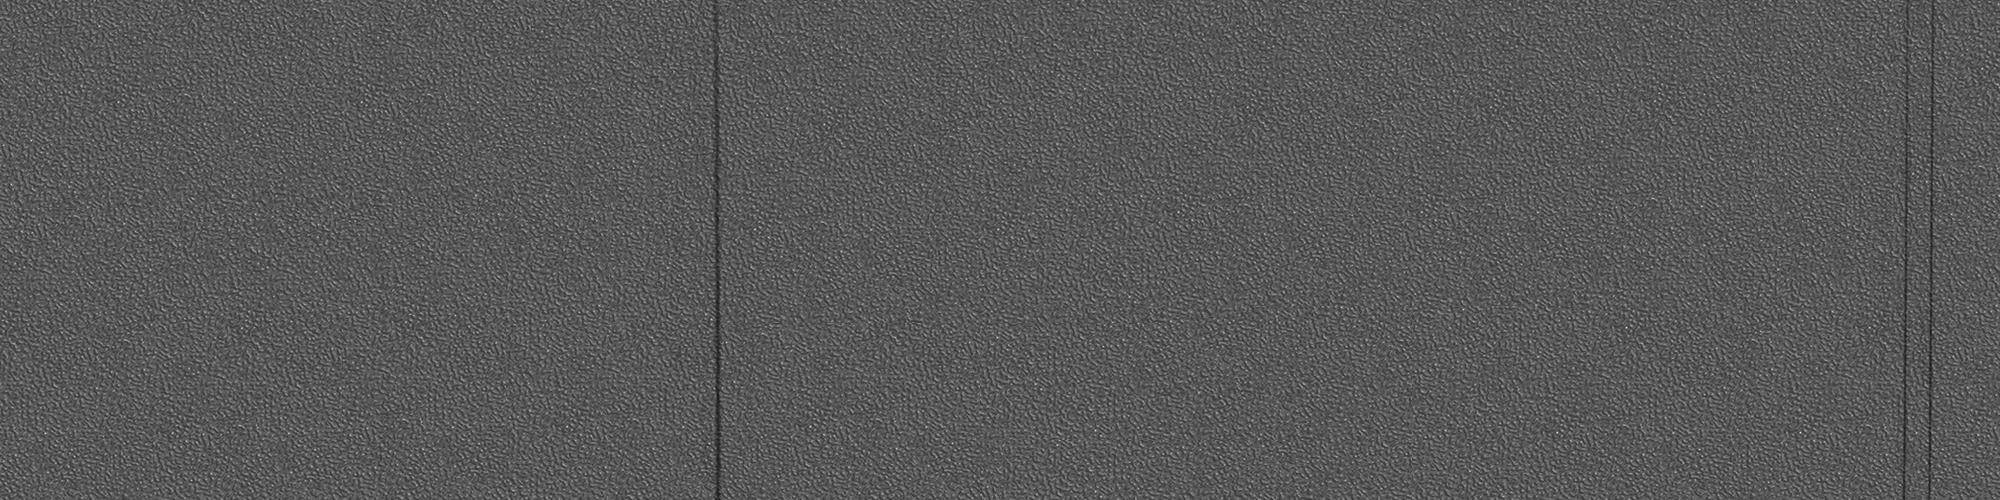DieDrag: (1895, 5, 1946, 497), (691, 3, 740, 500)
